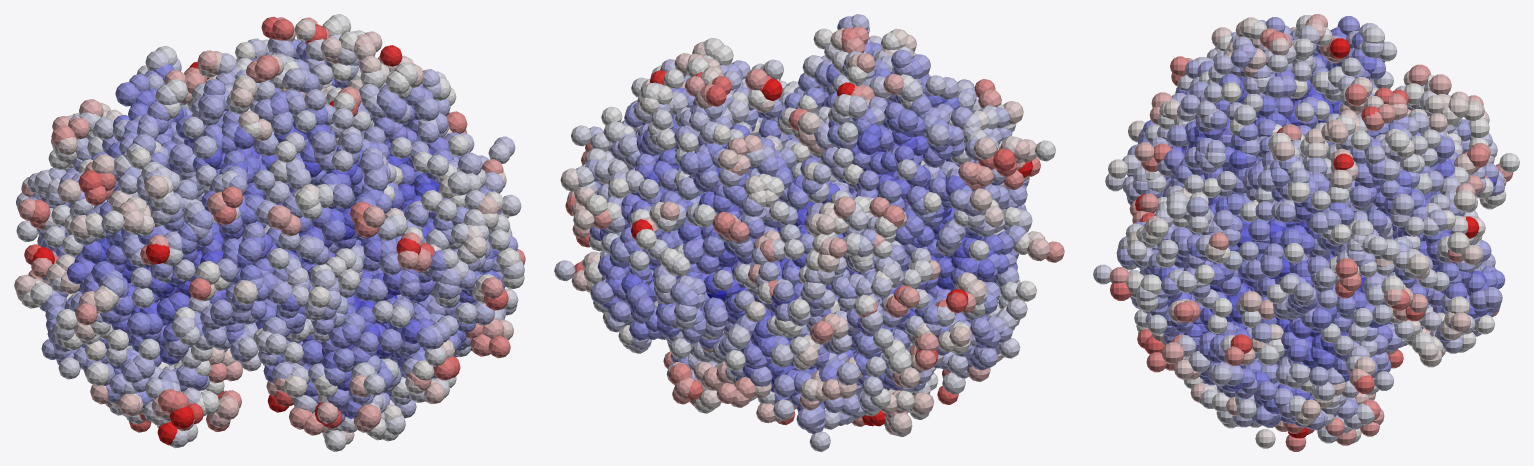
The model's file is 4hhb__spheres__b-factor.glb.
3 renders of one model, left to right at view 1: azimuth 30°, elevation 25°; view 2: azimuth 150°, elevation 25°; view 3: azimuth 270°, elevation 25°, orthographic. The views are drawn at different scales.
Visible parts, largest first — view 1: Renderer Node; view 2: Renderer Node; view 3: Renderer Node.
Boxes of the visible parts, box(x1,y1,x2,y2) form: Renderer Node: box(14, 14, 525, 451); Renderer Node: box(554, 14, 1064, 451); Renderer Node: box(1093, 14, 1519, 451).
Size of the model in its own units: 73.32 by 60.06 by 63.83.
